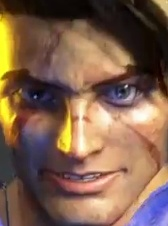kevin: (0, 6, 164, 224)
